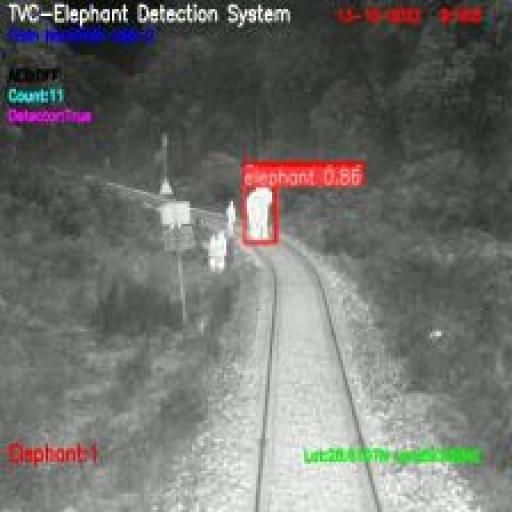Elephant: (244, 185, 278, 244)
